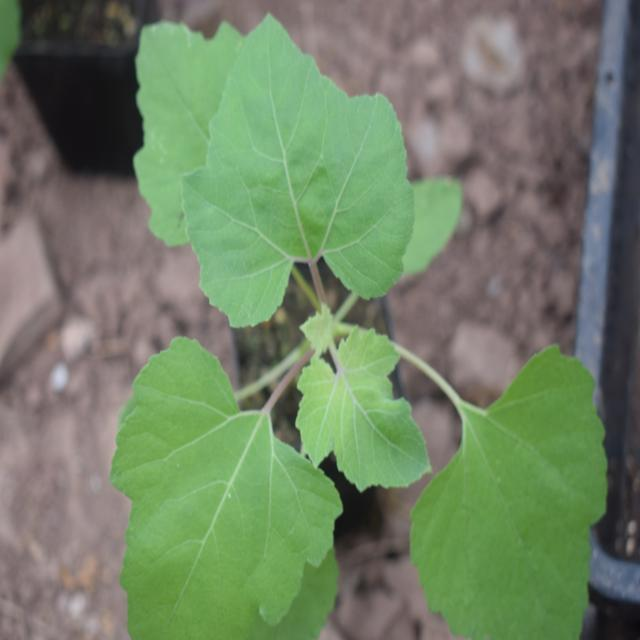cocklebur: (122, 23, 612, 626)
